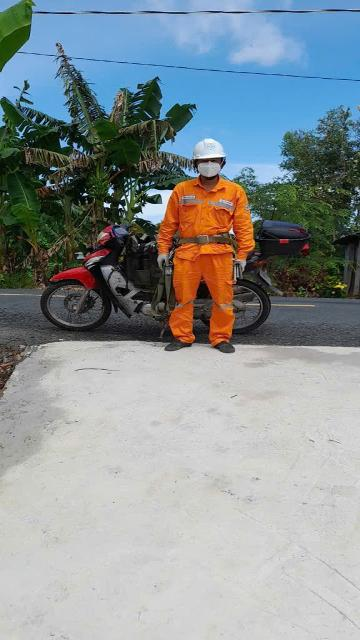gloves: (230, 252, 250, 282), (154, 251, 173, 270)
harness: (156, 218, 247, 255)
helmet: (191, 131, 238, 167)
shoes: (208, 337, 238, 362), (160, 331, 188, 357)
